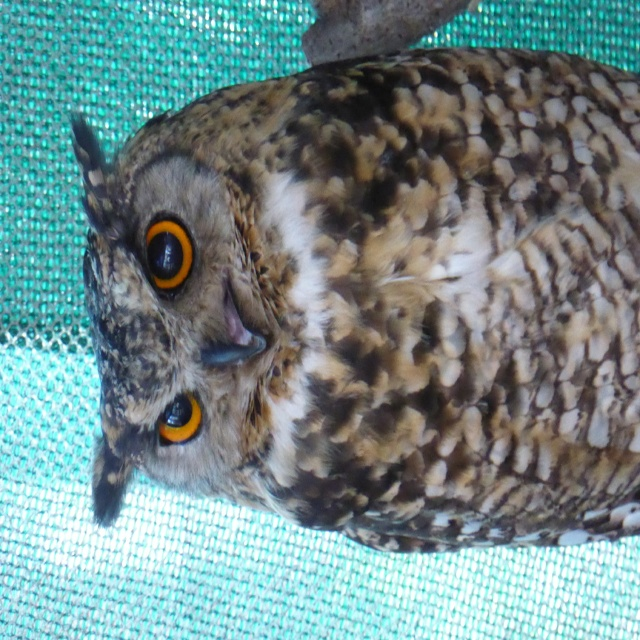Owl: (66, 51, 640, 556)
